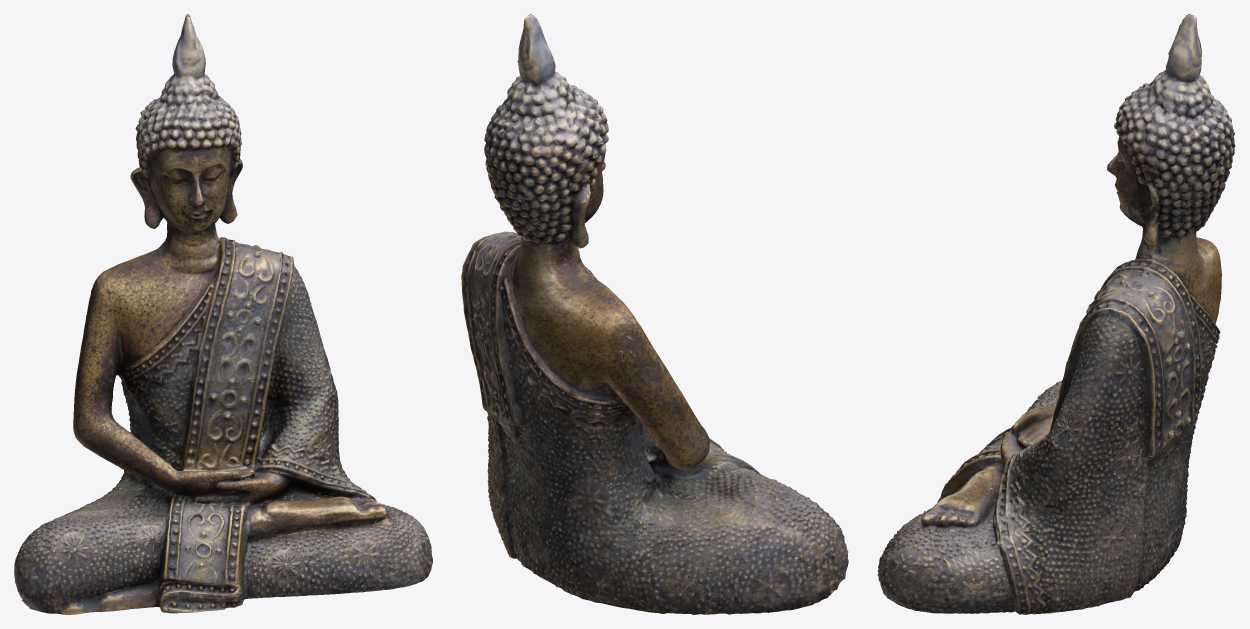
File: e4buddha.glb
3 renders of one model, left to right at view 1: azimuth 30°, elevation 25°; view 2: azimuth 150°, elevation 25°; view 3: azimuth 270°, elevation 25°, orthographic. The views are drawn at different scales.
Parts seen in each view (by area): view 1: figure; view 2: figure; view 3: figure.
Part boxes in pixels (x1,y1,x2,y2): figure: [14, 14, 432, 614]; figure: [461, 14, 848, 614]; figure: [877, 14, 1235, 614].
Bounding box in the file's own units: 0.2242 × 0.32 × 0.1847.
1 material, 1 textured.
